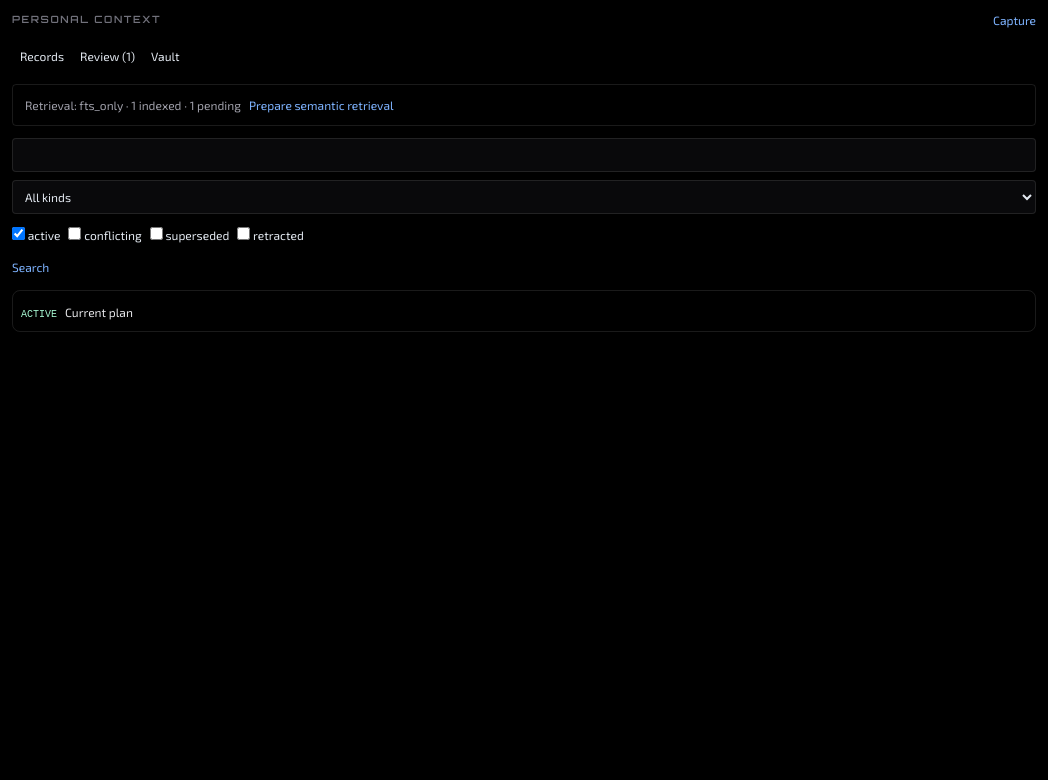
Test: CortexContext › saves direct entries and distinguishes review-required results
Click the button "Capture" at (1015, 20), box [993,12,1036,28]
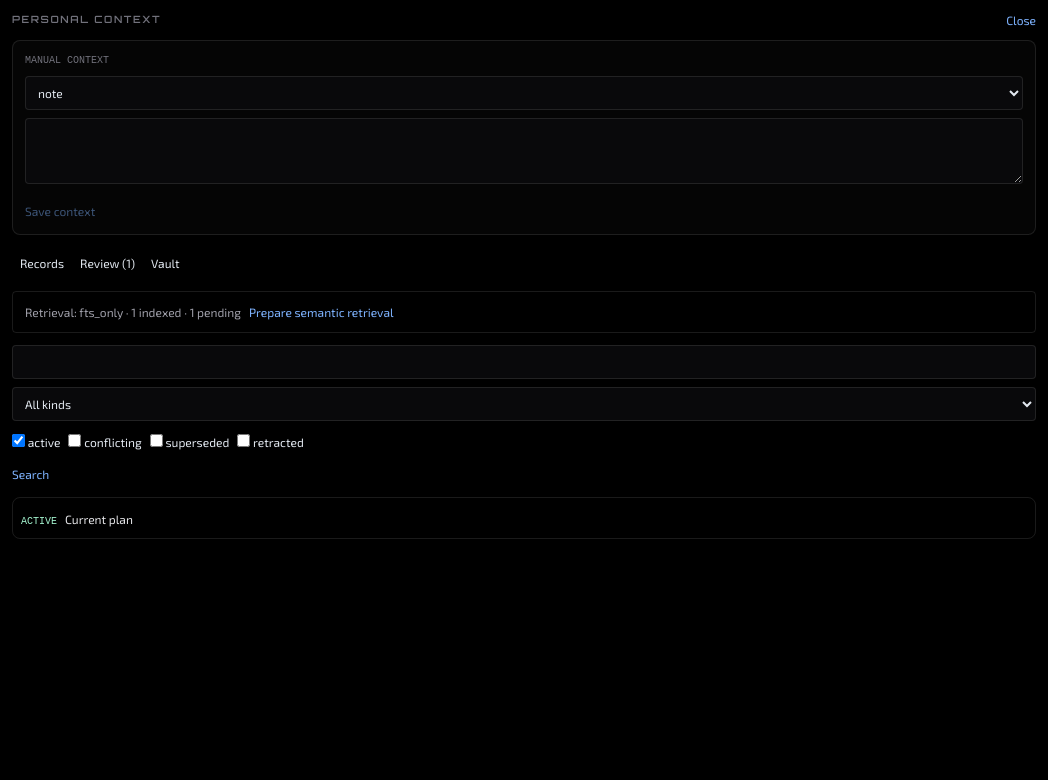
Type "  first  " into the text box named "Manual context text" at (524, 151), box [25,118,1023,184]
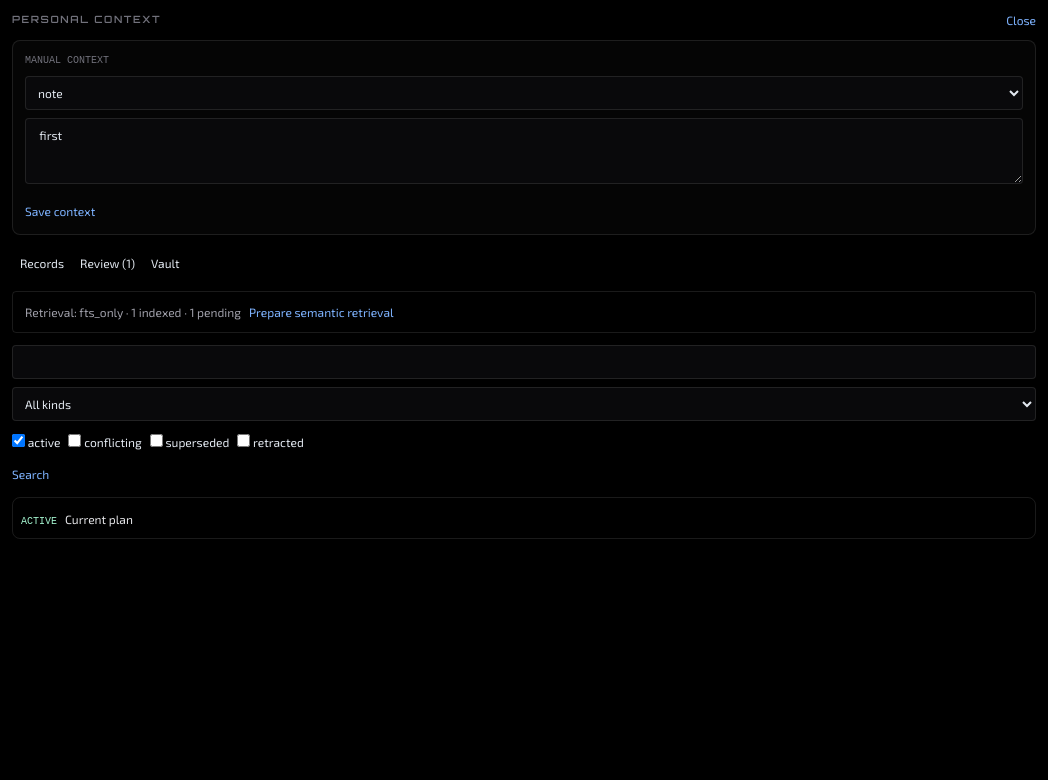
Click the button "Save context" at (60, 211), box [25,203,95,219]
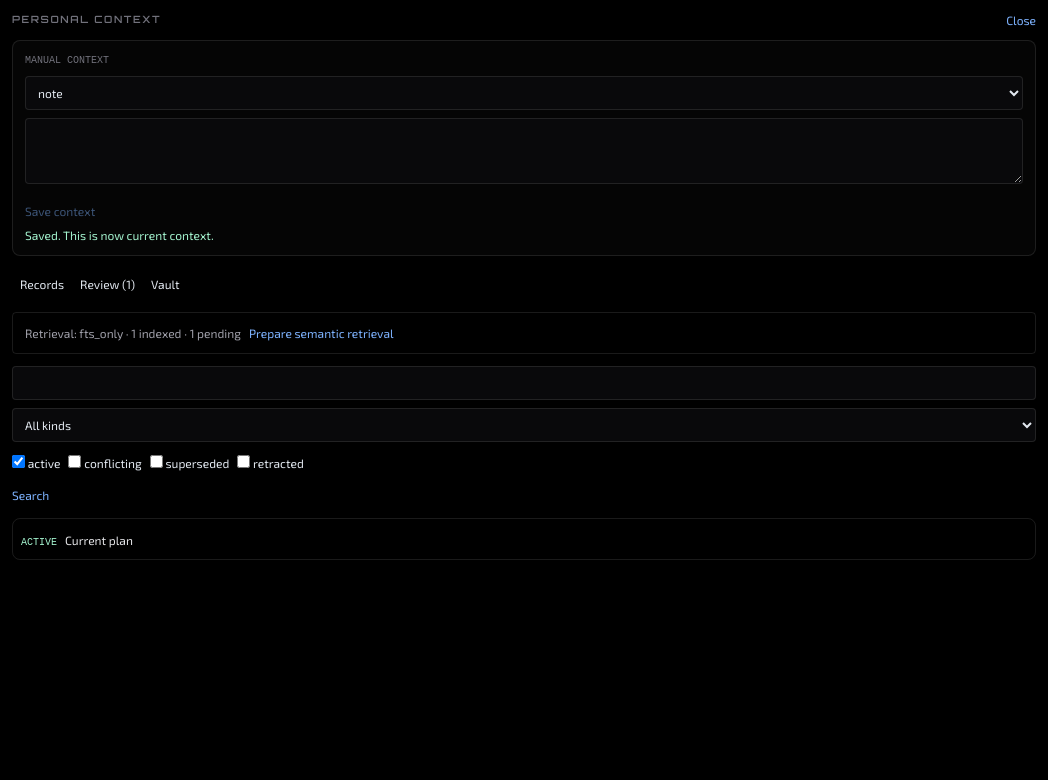
Check: the text "Saved. This is now current context." is shown, box [25,228,214,242]
Type "second" into the text box named "Manual context text" at (524, 151), box [25,118,1023,184]
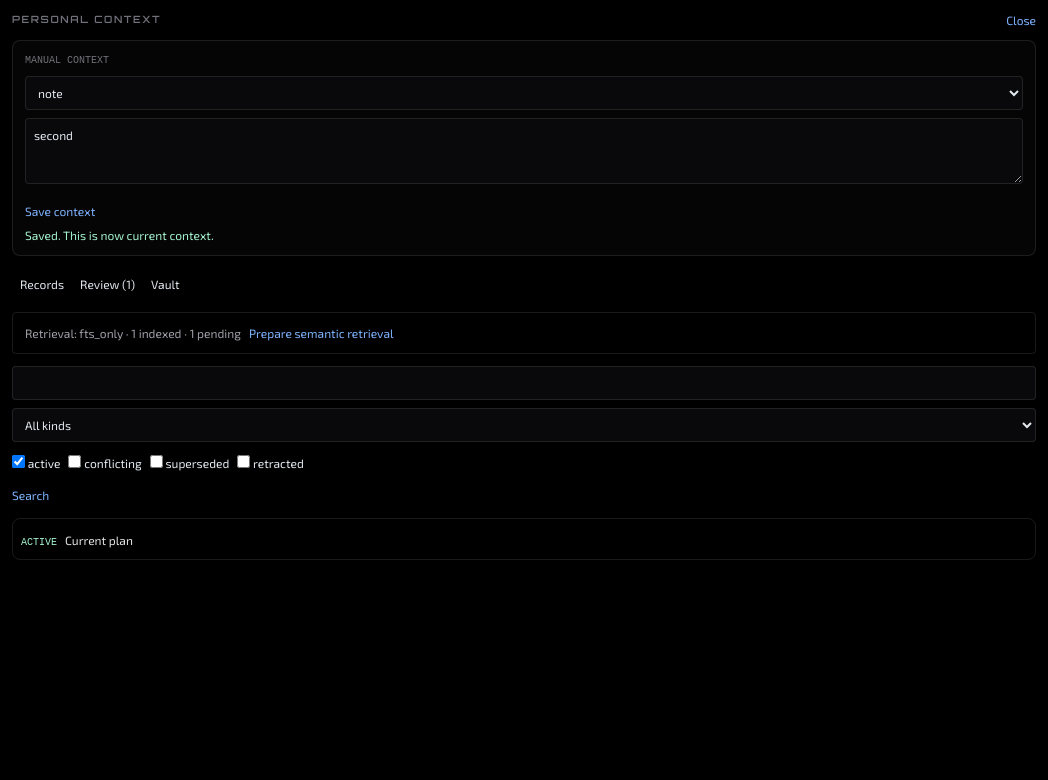
Click the button "Save context" at (60, 211), box [25,203,95,219]
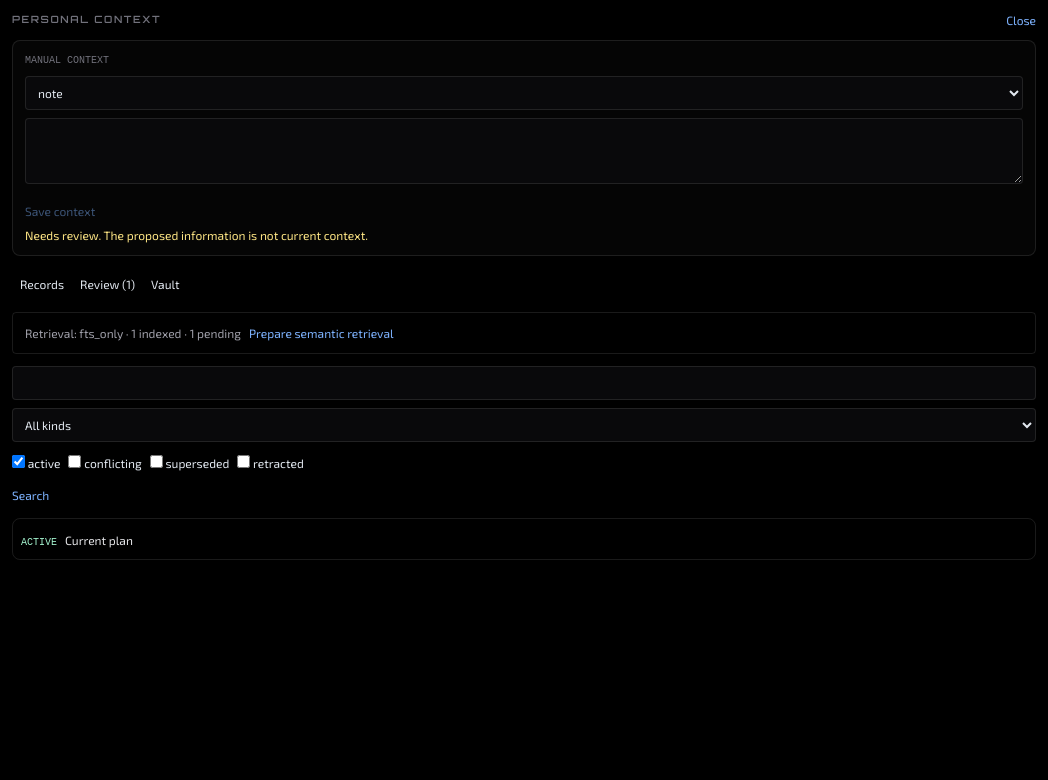
Check: the text "Needs review. The proposed information is not current context." is shown, box [25,228,368,242]
